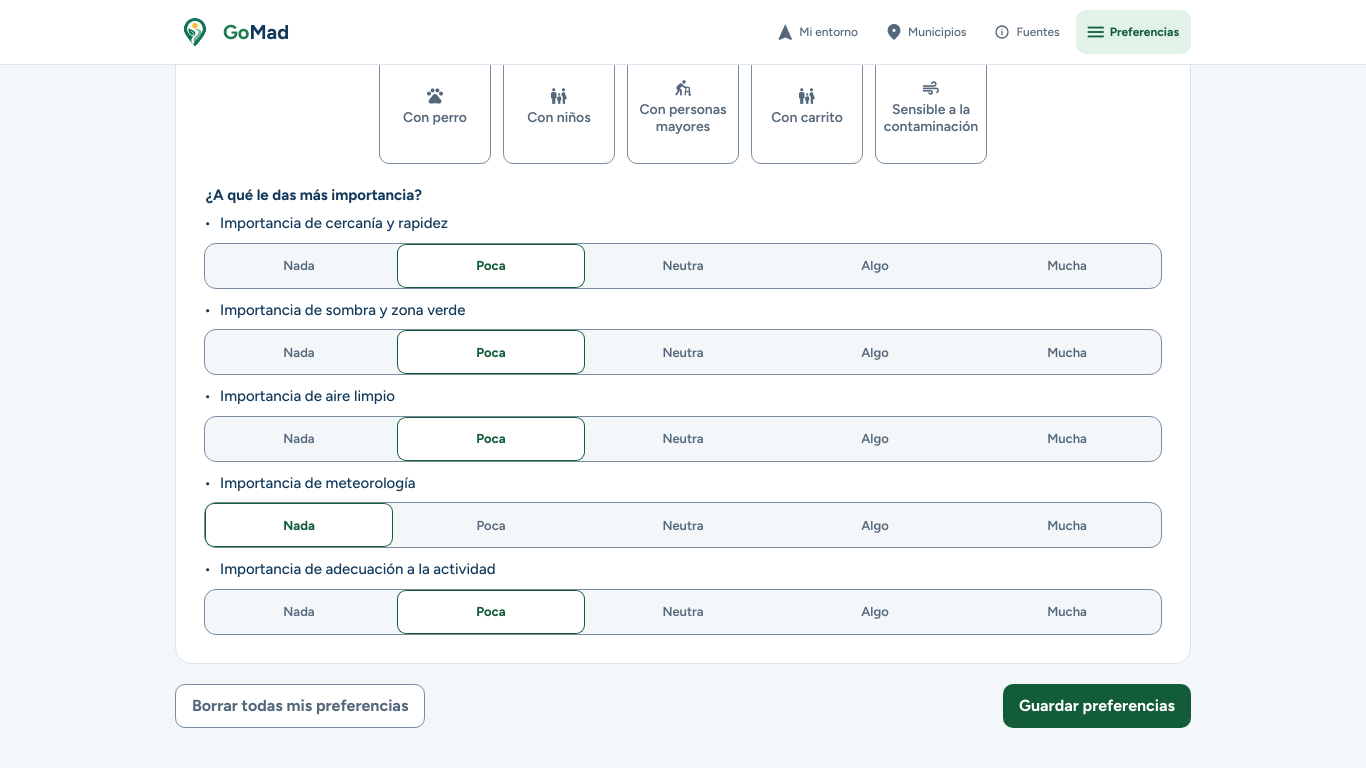
Scenario: Perfil › al guardar abre un modal con el resumen y al cerrarlo el foco vuelve a «Guardar»
This screenshot has width=1366, height=768.
(page scrolled)
Click the button "Guardar preferencias" at (1097, 706), box [1003,684,1191,728]
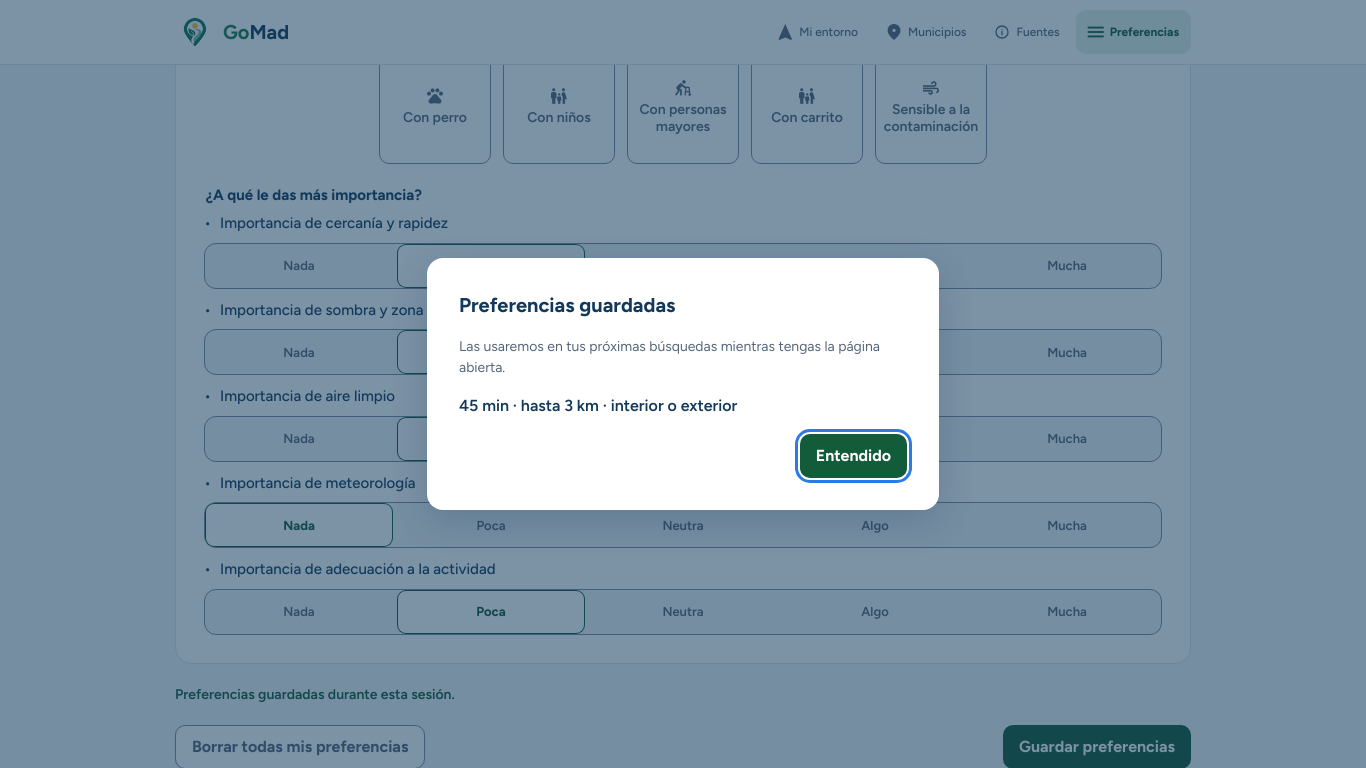
Now the dialog "Preferencias guardadas" shows "mientras tengas la página abierta", box [459,338,880,376]
Now the dialog "Preferencias guardadas" shows "45 min", box [459,396,737,415]
Click the button "Entendido" at (853, 456), box [800,434,907,478]
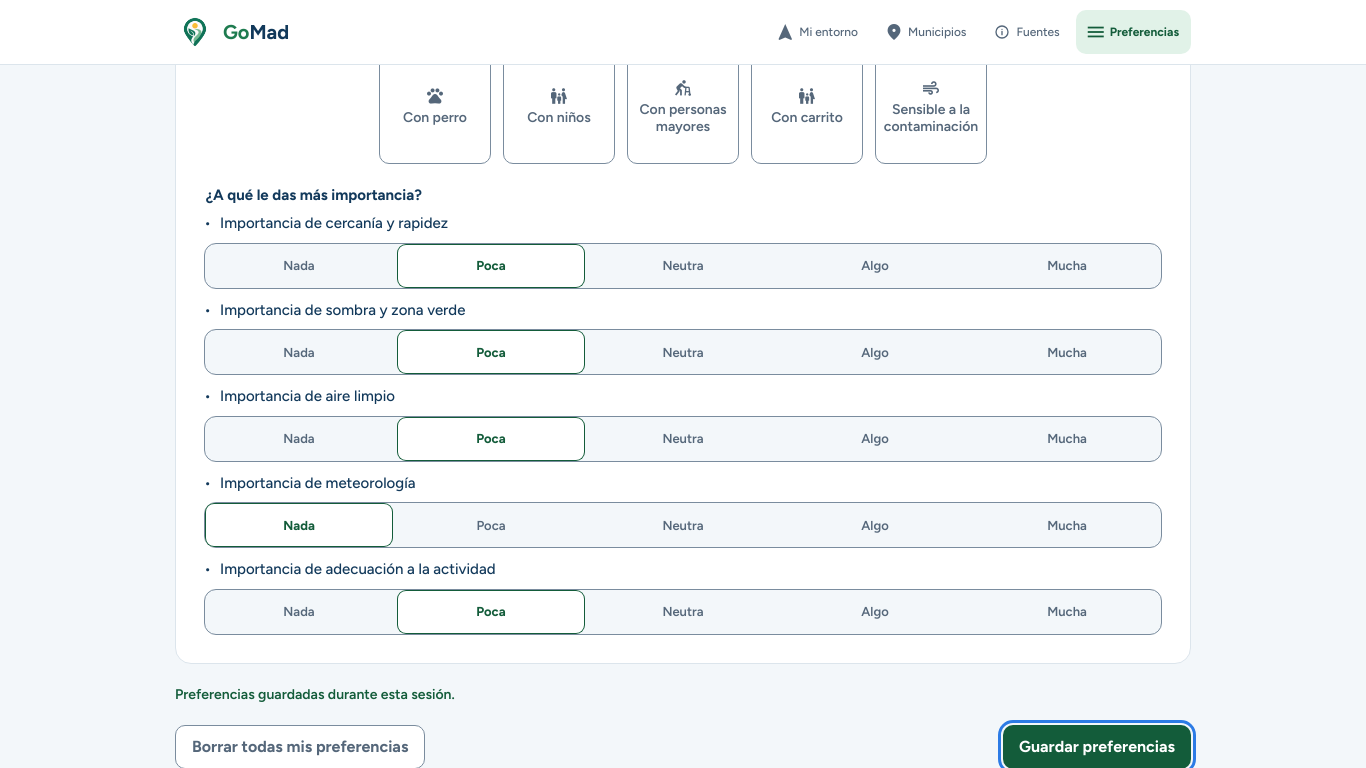
Now the dialog is gone
